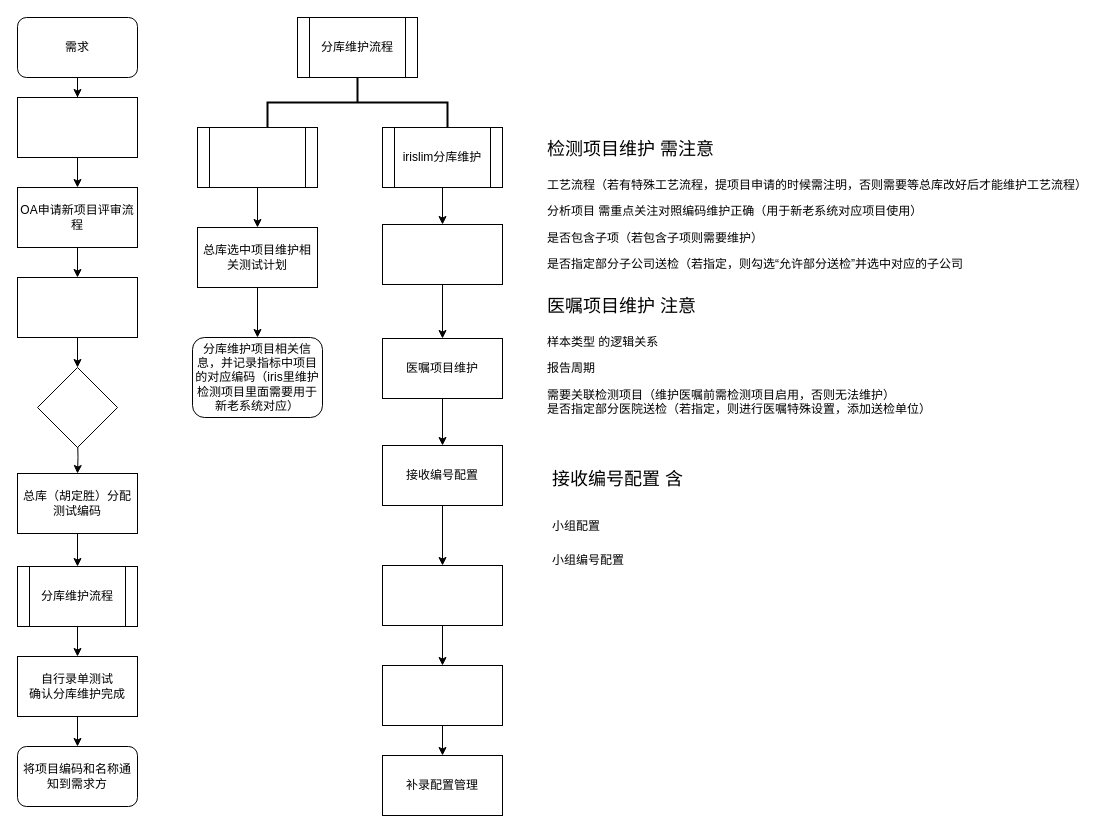
Some shapes in this 1120 by 833 pixel diagram are drawn without their labels. Each missing label, with the centre of its shape:
"OA提新项目维护流程" belongs at point (77, 307).
"starlims分库维护" belongs at point (257, 157).
"审核通过" belongs at point (77, 407).
"杂交组别维护" belongs at point (442, 595).
"检测项目维护" belongs at point (442, 254).
"短信发送配置" belongs at point (442, 695).
"确认需求和项目相关系列信息" belongs at point (77, 127).
